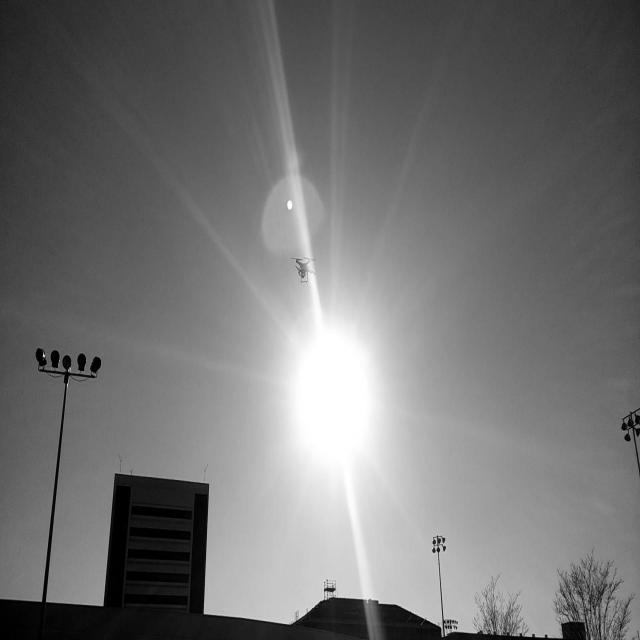drone: (288, 252, 316, 285)
